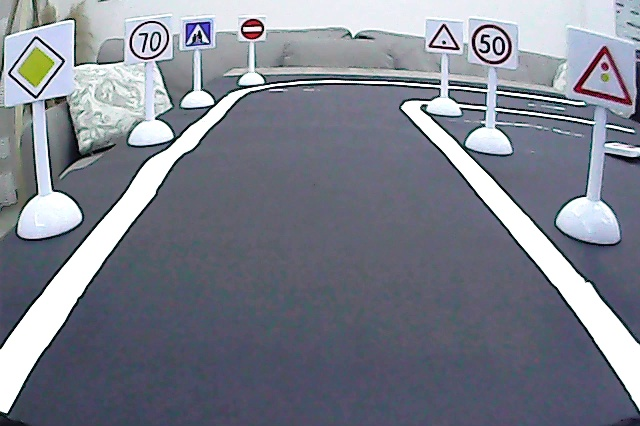do not enter: (239, 17, 265, 41)
green light: (428, 22, 463, 53)
red light: (570, 41, 636, 109)
school crossing: (184, 20, 212, 49)
speed limit 50: (469, 22, 515, 68)
speed limit 70: (128, 18, 171, 63)
